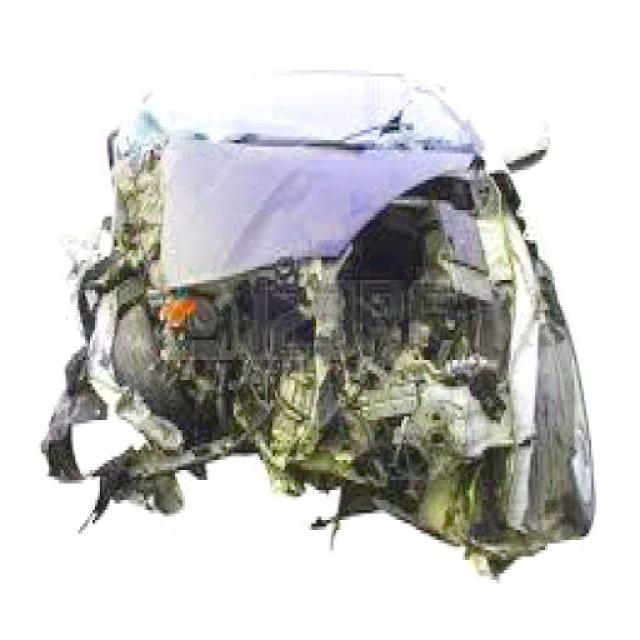car damage: (44, 60, 587, 574)
